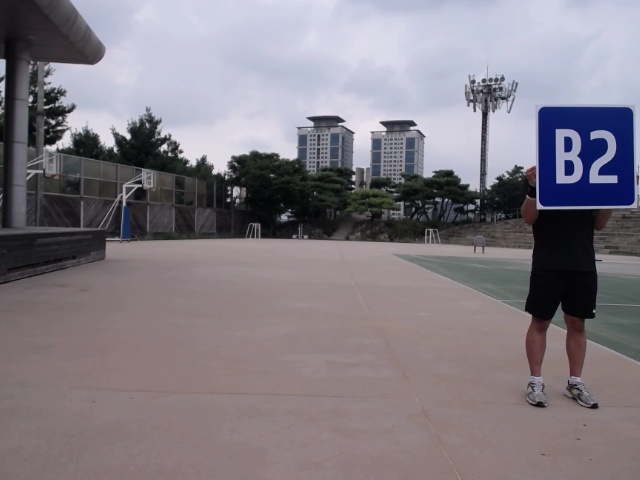delivery_b2: (534, 107, 635, 210)
